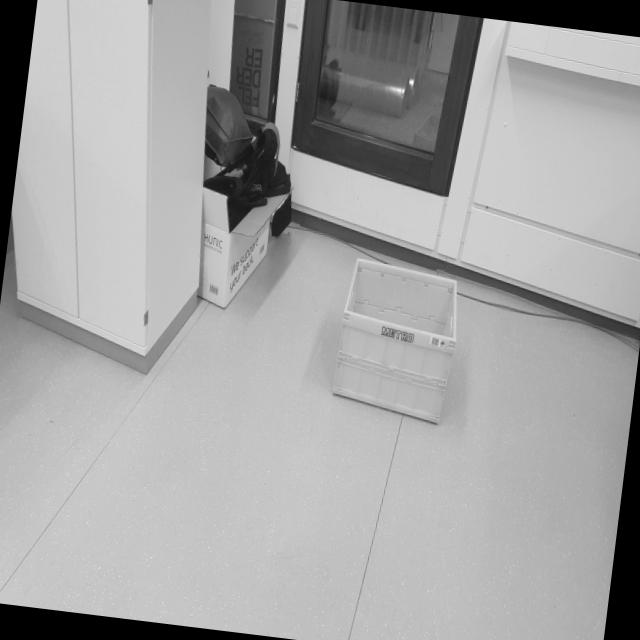box: (324, 244, 470, 442)
